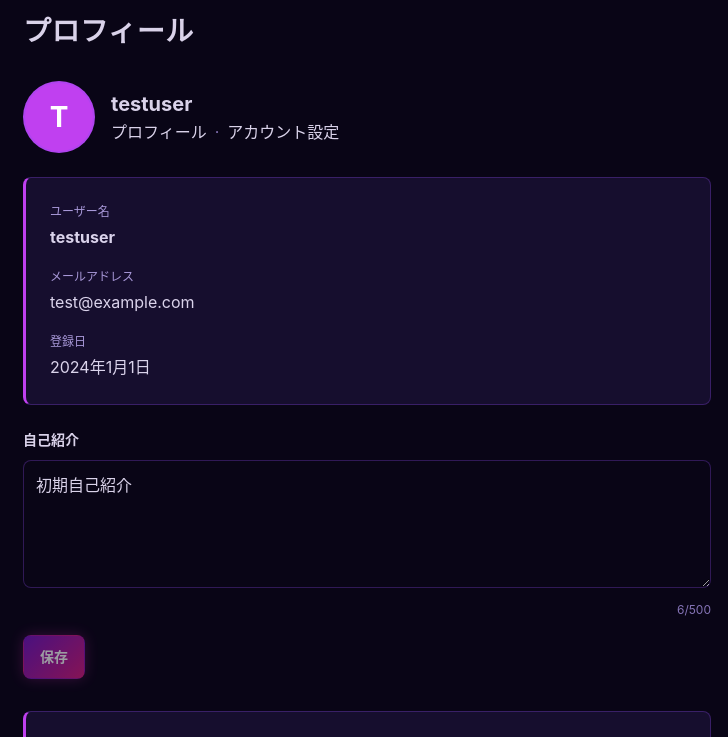
Test: ProfilePage › 保存失敗時にエラーメッセージが表示される
Replace the text in the text box labelled "自己紹介" with "変更後の自己紹介" at (367, 524), box top-left (23, 460), bottom-right (711, 588)
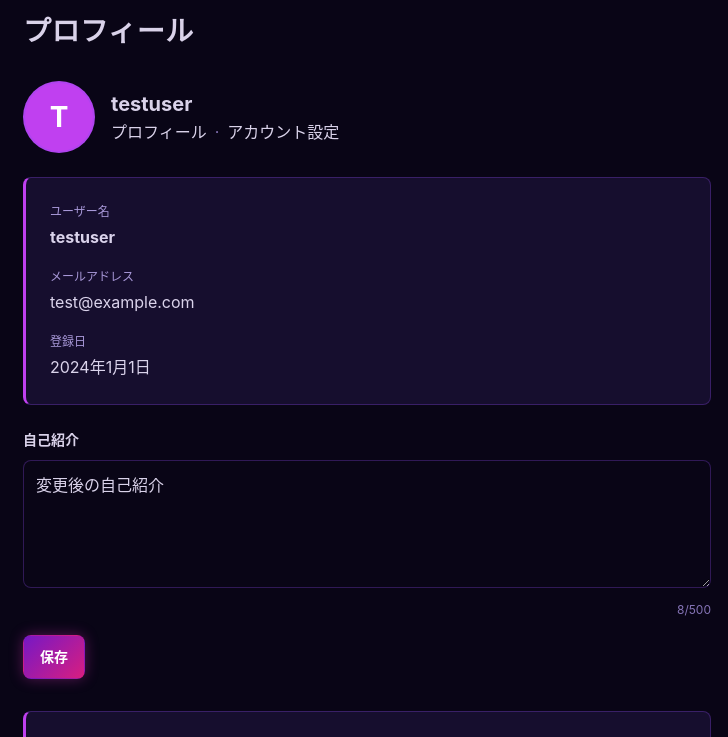
Click the button "保存" at (54, 657), box top-left (23, 635), bottom-right (85, 679)
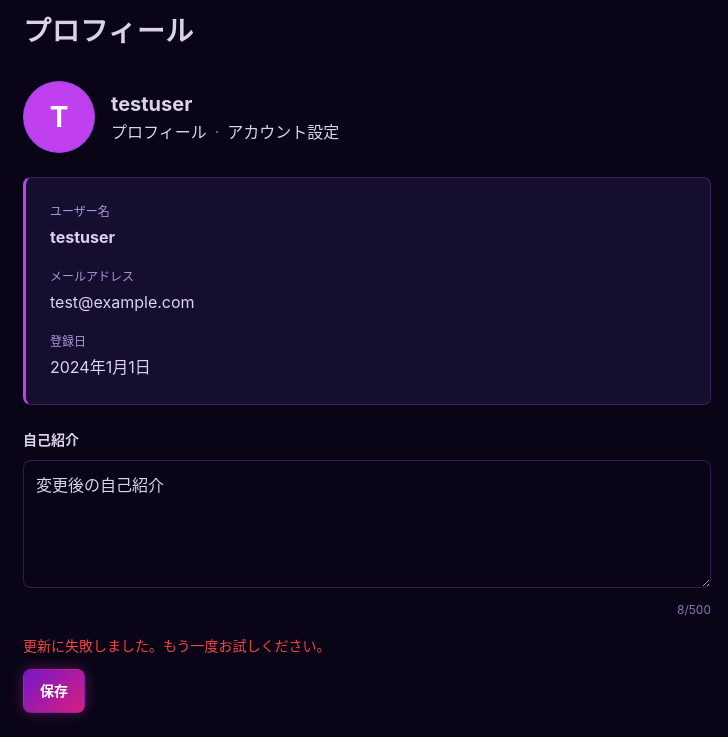
Check: the text "更新に失敗しました。もう一度お試しください。" is shown, box top-left (23, 637), bottom-right (331, 654)
